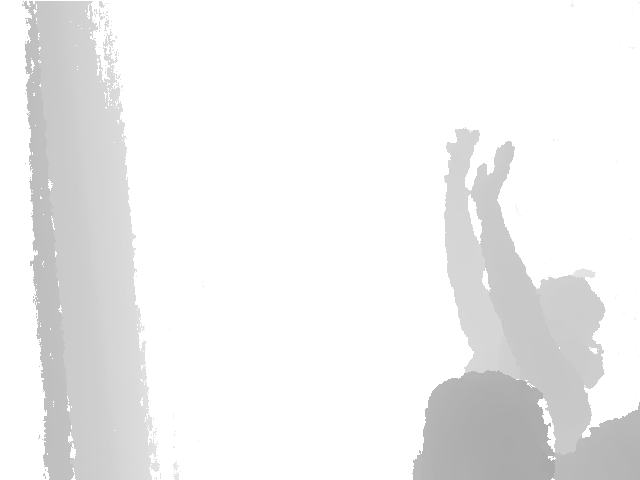hand: (472, 140, 516, 202), (444, 126, 479, 178)
head: (413, 371, 554, 480), (520, 274, 606, 345)
person: (442, 125, 606, 450), (413, 371, 640, 480)
